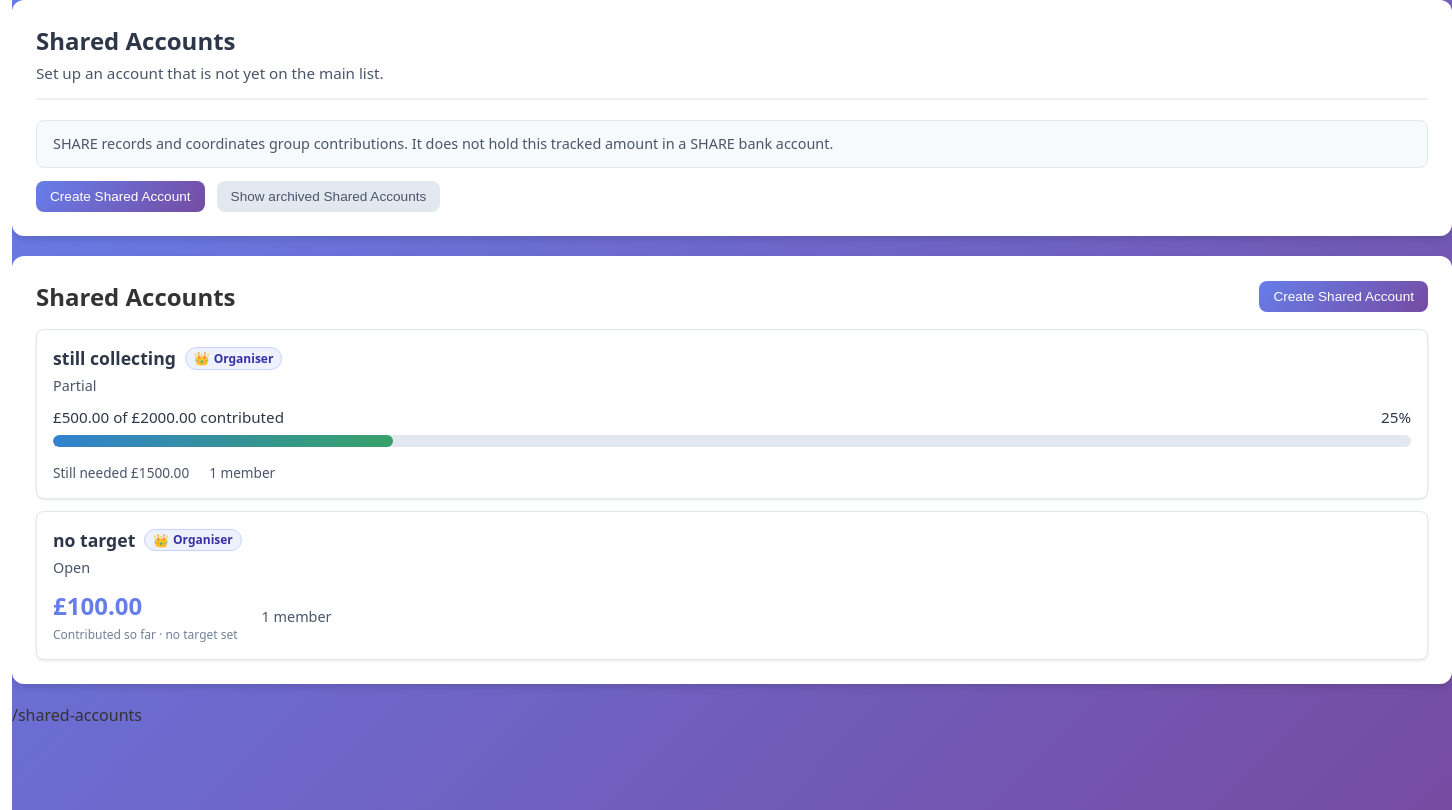
Test: SharedAccounts list Pay now › does not show Pay now on below-target, no-target, or archived pots
Check: the heading "still collecting" is shown, box top-left (53, 346), bottom-right (176, 370)
Check: the heading "no target" is shown, box top-left (53, 528), bottom-right (135, 552)
Click the button "Show archived Shared Accounts": (328, 197) top-left (217, 181), bottom-right (440, 212)
(page scrolled)
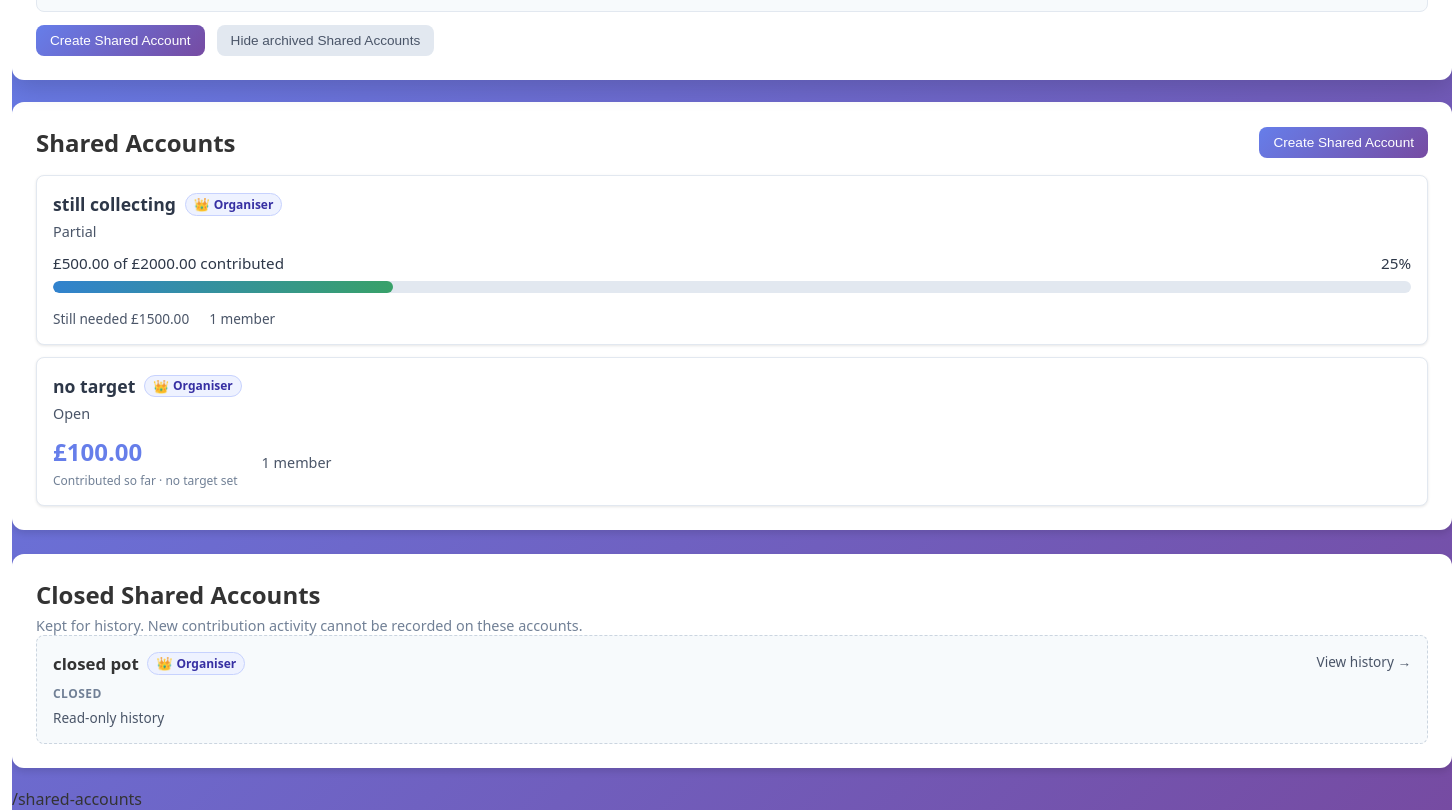
Check: the heading "closed pot" is shown, box top-left (53, 652), bottom-right (139, 675)
Check: the text "Closed" is shown, box top-left (53, 685), bottom-right (102, 702)
